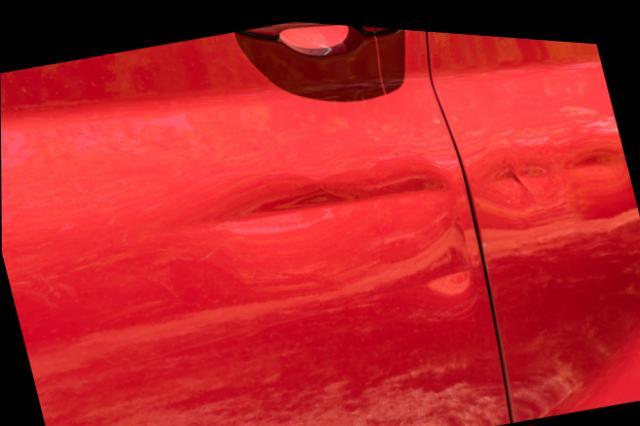dent: (222, 153, 472, 287), (470, 124, 640, 233)
